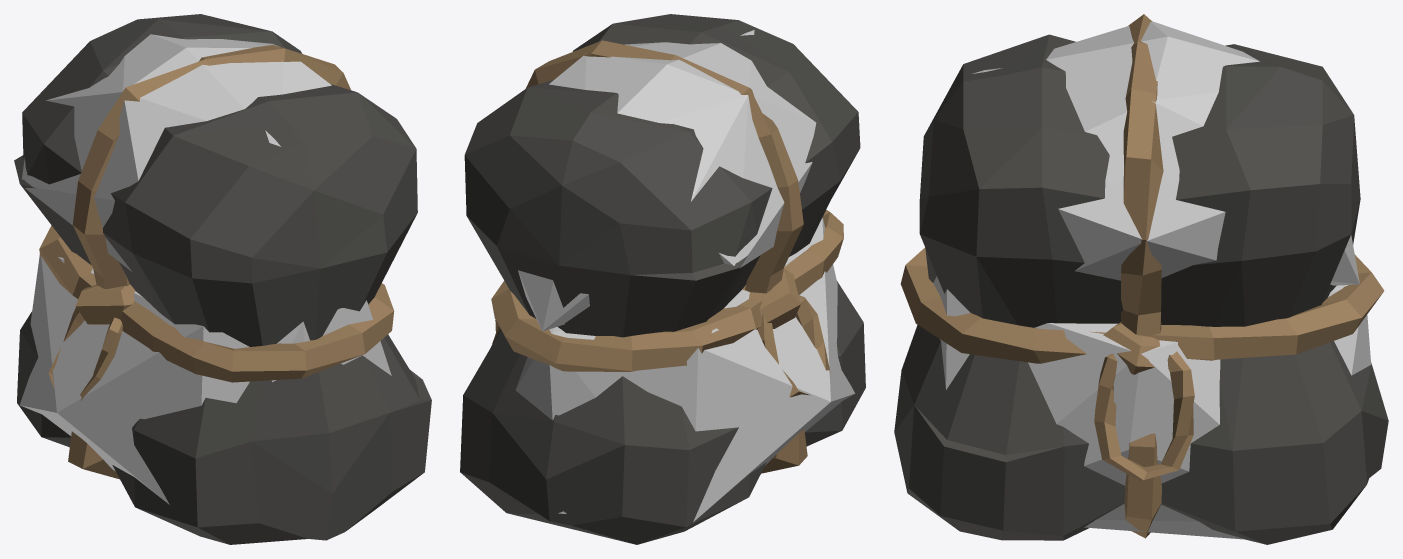
Rendered from SM_Prop_Bundle_06.fbx.
3 renders of one model, left to right at view 1: azimuth 30°, elevation 25°; view 2: azimuth 150°, elevation 25°; view 3: azimuth 270°, elevation 25°, orthographic. The views are drawn at different scales.
Visible parts, largest first — view 1: SM_Prop_Bundle_06, SM_Prop_Bundle_06_ConvexHulls; view 2: SM_Prop_Bundle_06, SM_Prop_Bundle_06_ConvexHulls; view 3: SM_Prop_Bundle_06, SM_Prop_Bundle_06_ConvexHulls.
Part boxes in pixels (left/top/right/bottom): SM_Prop_Bundle_06: left=14, top=14, right=431, bottom=544; SM_Prop_Bundle_06_ConvexHulls: left=20, top=34, right=391, bottom=504; SM_Prop_Bundle_06: left=460, top=14, right=865, bottom=544; SM_Prop_Bundle_06_ConvexHulls: left=515, top=30, right=854, bottom=521; SM_Prop_Bundle_06: left=894, top=14, right=1388, bottom=544; SM_Prop_Bundle_06_ConvexHulls: left=933, top=21, right=1371, bottom=539.
Bounding box in the file's own units: 80.38 × 99.05 × 102.
Materials: 2 (1 with a texture image).
